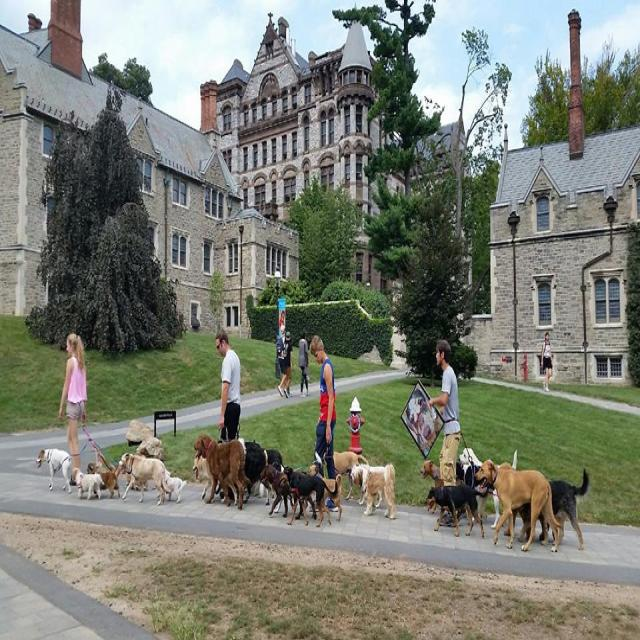body: (427, 336, 462, 528), (306, 332, 341, 513), (214, 326, 242, 501), (57, 330, 88, 487), (276, 324, 288, 398), (298, 332, 311, 397), (540, 330, 553, 392), (283, 330, 294, 400), (278, 308, 286, 334)
